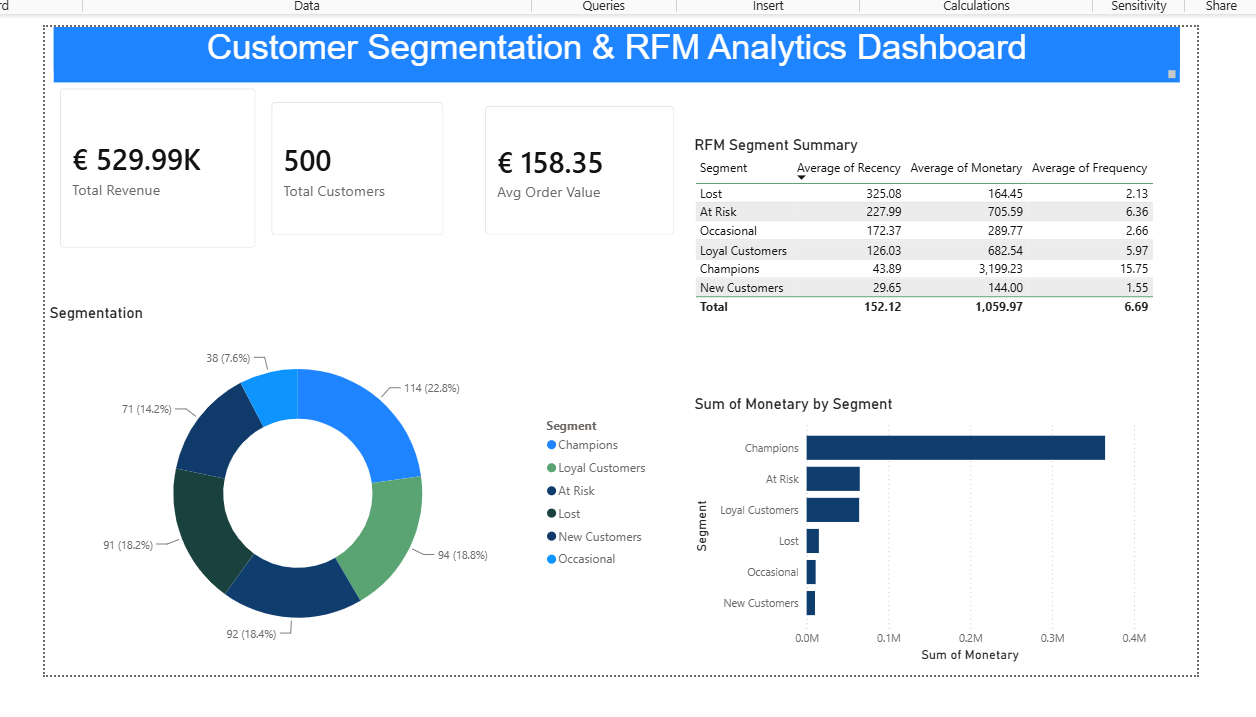

Layout of this report page (visuals, bound fields, positions):
{"tool":"powerbi","page":{"name":"Page 1","canvas":[1280,720],"ordinal":0},"visuals":[{"type":"cardVisual","fields":{"Data":["Transactions.Total Revenue"]},"box":[0,51.4,251.9,211.6],"z":0},{"type":"cardVisual","fields":{"Data":["Transactions.Total Customers"]},"box":[234.8,66,225,182.2],"z":1},{"type":"cardVisual","fields":{"Data":["Transactions.Avg Order Value"]},"box":[472,70.9,244.6,177.3],"z":2},{"type":"donutChart","title":"Segmentation","fields":{"Category":["CustomerRFM.Segment"],"Y":["CountNonNull(CustomerRFM.CustomerID)"]},"box":[0,306.9,681.1,403.5],"z":3},{"type":"clusteredBarChart","fields":{"Category":["CustomerRFM.Segment"],"Y":["Sum(CustomerRFM.Monetary)"]},"box":[716.6,359.5,512.4,303.3],"z":4},{"type":"tableEx","title":"RFM Segment Summary","fields":{"Values":["CustomerRFM.Segment","Avg(CustomerRFM.Recency)","Avg(CustomerRFM.Monetary)","Avg(CustomerRFM.Frequency)"]},"box":[716.6,72.1,563.7,287.4],"z":5},{"type":"textbox","title":"Customer Segmentation & RFM Analytics Dashboard","box":[9.6,0,1251.5,61.7],"z":7}]}

Visuals, with their boxes on the page's 1280x720 design canvas (x1, y1, x2, y2). These are canvas units, not pixel positions in the 1256x717 screenshot, which may show the page scaled, cropped or inside an application window:
cardVisual - Transactions.Total Revenue: {"left": 0, "top": 51, "right": 252, "bottom": 263}
cardVisual - Transactions.Total Customers: {"left": 235, "top": 66, "right": 460, "bottom": 248}
cardVisual - Transactions.Avg Order Value: {"left": 472, "top": 71, "right": 717, "bottom": 248}
"Segmentation" donutChart: {"left": 0, "top": 307, "right": 681, "bottom": 710}
clusteredBarChart - CustomerRFM.Segment x Sum(CustomerRFM.Monetary): {"left": 717, "top": 360, "right": 1229, "bottom": 663}
"RFM Segment Summary" tableEx: {"left": 717, "top": 72, "right": 1280, "bottom": 360}
"Customer Segmentation & RFM Analytics Dashboard" textbox: {"left": 10, "top": 0, "right": 1261, "bottom": 62}
